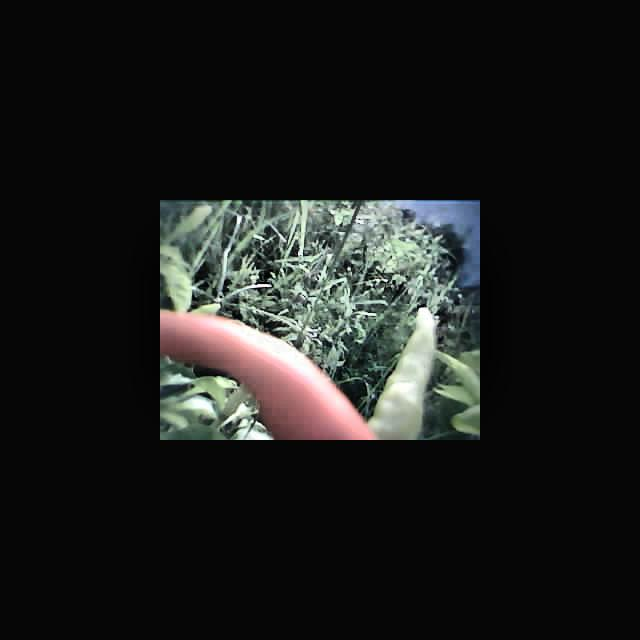Cabai: (167, 310, 365, 440)
